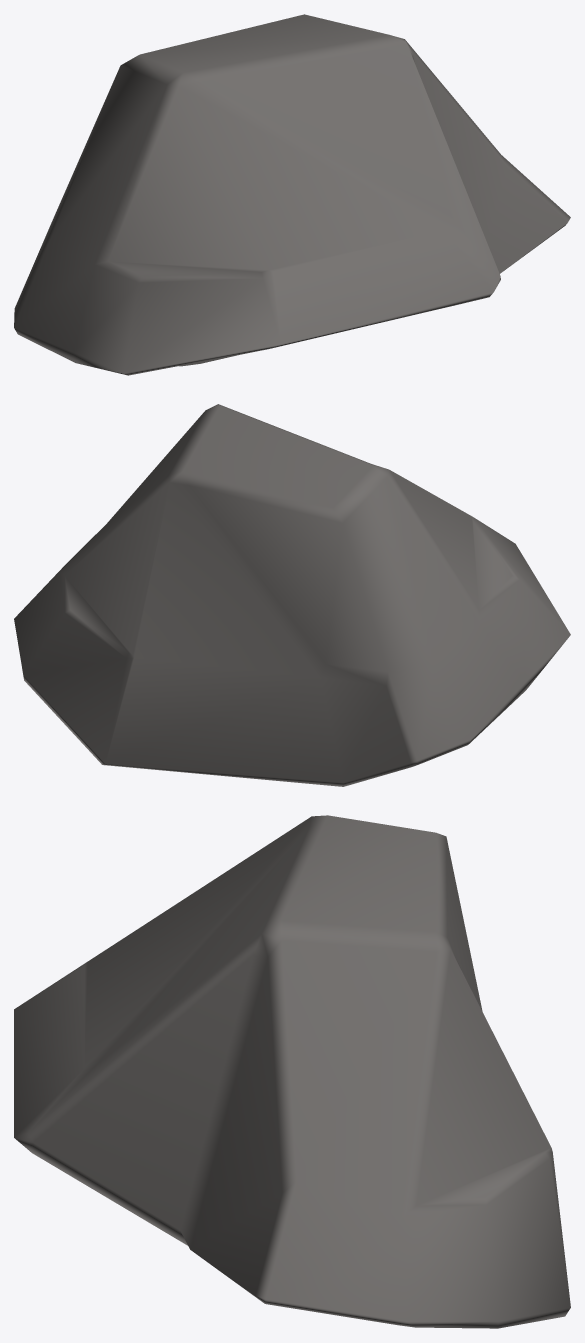
File: Asteroid4.glb
3 renders of one model, top to bottom at view 1: azimuth 30°, elevation 25°; view 2: azimuth 150°, elevation 25°; view 3: azimuth 270°, elevation 25°, orthographic. The views are drawn at different scales.
Visible parts, largest first — view 1: Аsteroid_04; view 2: Аsteroid_04; view 3: Аsteroid_04.
Part boxes in pixels (left/top/right/bottom): Аsteroid_04: left=14, top=14, right=570, bottom=375; Аsteroid_04: left=14, top=404, right=570, bottom=786; Аsteroid_04: left=14, top=815, right=570, bottom=1328.
Bounding box in the file's own units: 4.74 × 2.83 × 3.69.
1 material, 1 textured.
